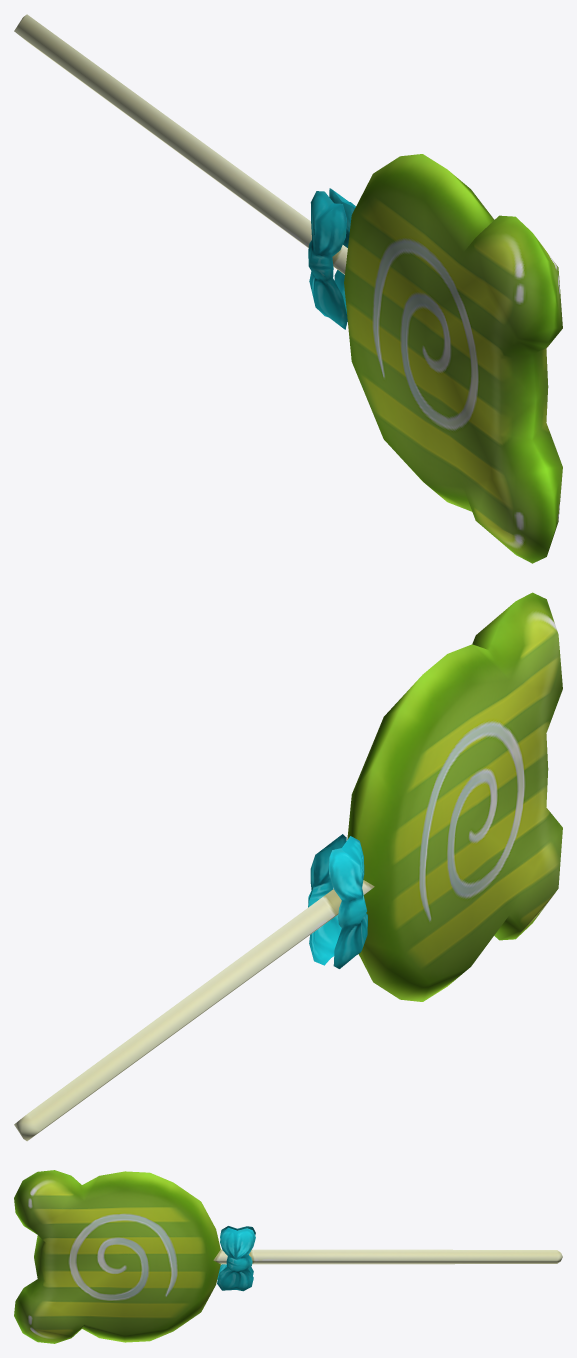
File: pet_80_01_handle.FBX
3 views of the same model, one above another, from view 1: azimuth 30°, elevation 25°; view 2: azimuth 150°, elevation 25°; view 3: azimuth 270°, elevation 25° (orthographic). The views are drawn at different scales.
Parts seen in each view (by area): view 1: pet_80_01_handle; view 2: pet_80_01_handle; view 3: pet_80_01_handle.
Boxes of the visible parts, x1=… form: pet_80_01_handle: x1=14, y1=14, x2=562, y2=563; pet_80_01_handle: x1=14, y1=592, x2=562, y2=1141; pet_80_01_handle: x1=14, y1=1170, x2=562, y2=1343.
Size of the model in its own units: 7.69 by 42.29 by 121.
